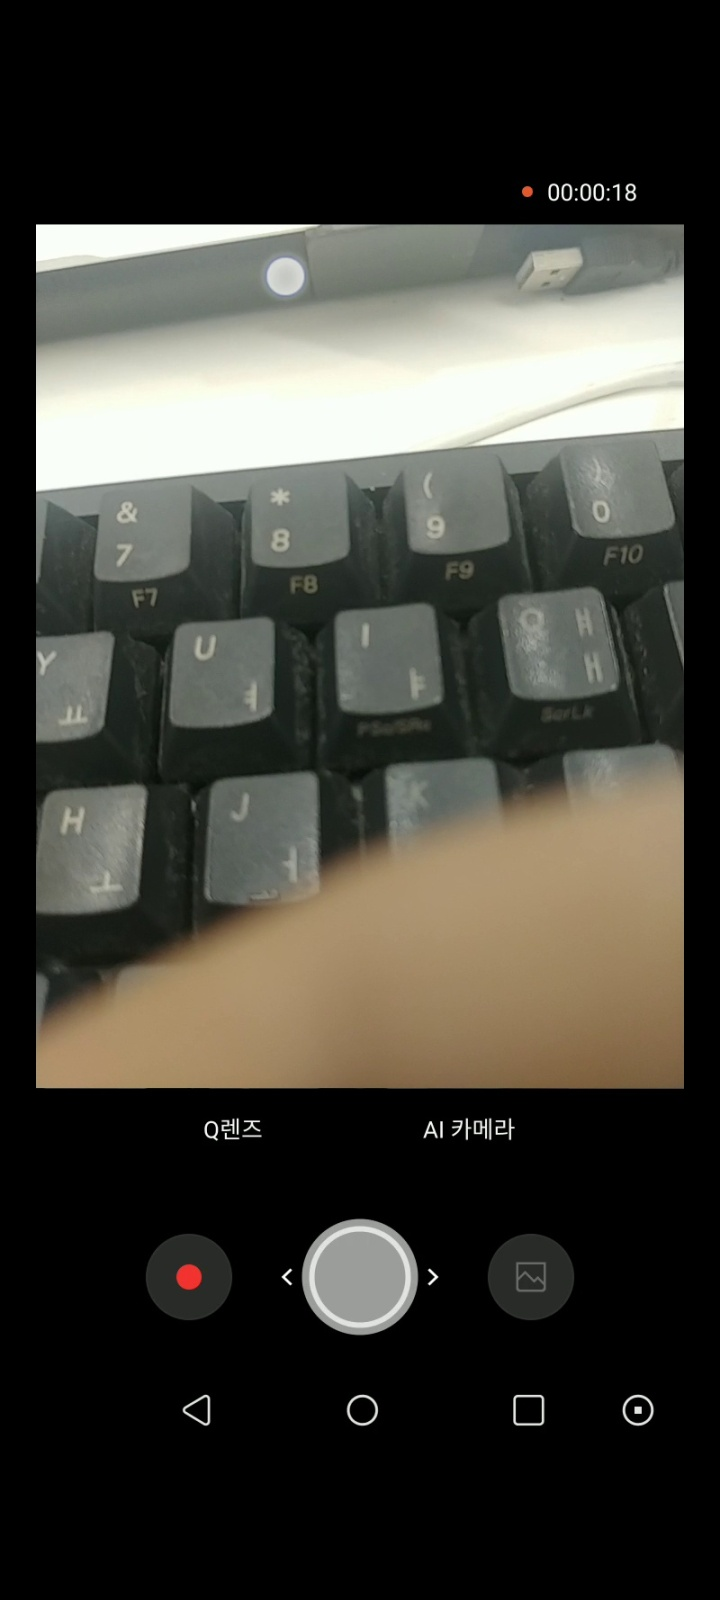Cursor: (263, 255, 308, 300)
